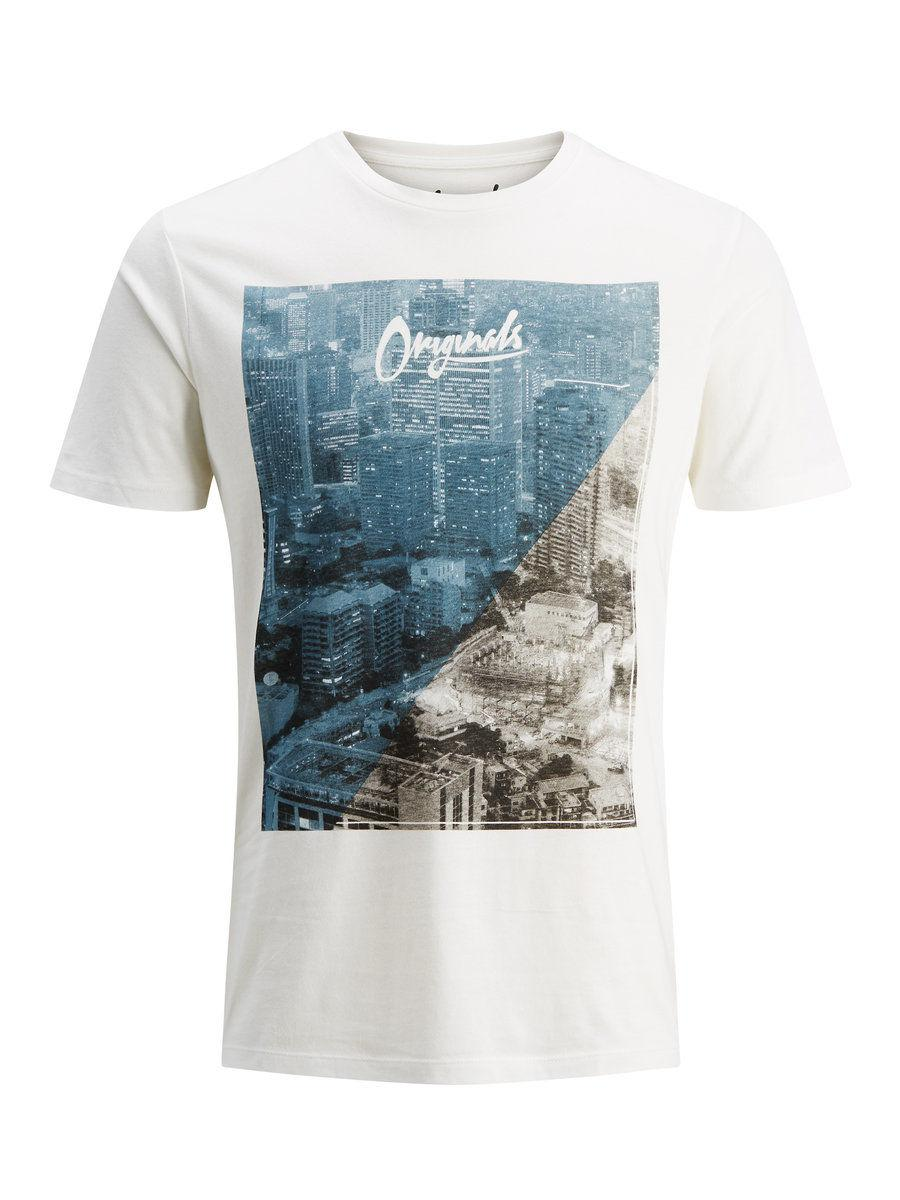teeshirt: (25, 120, 863, 1160)
